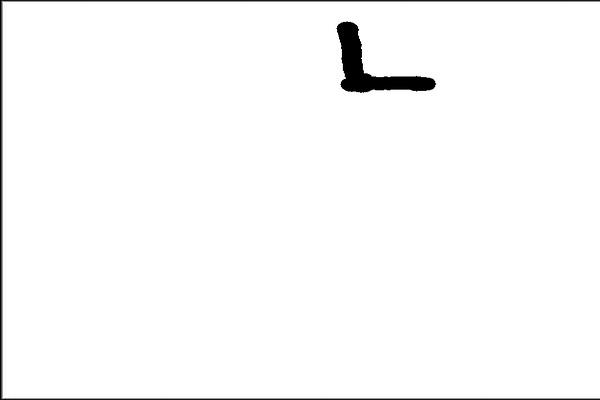L: (330, 11, 440, 97)
